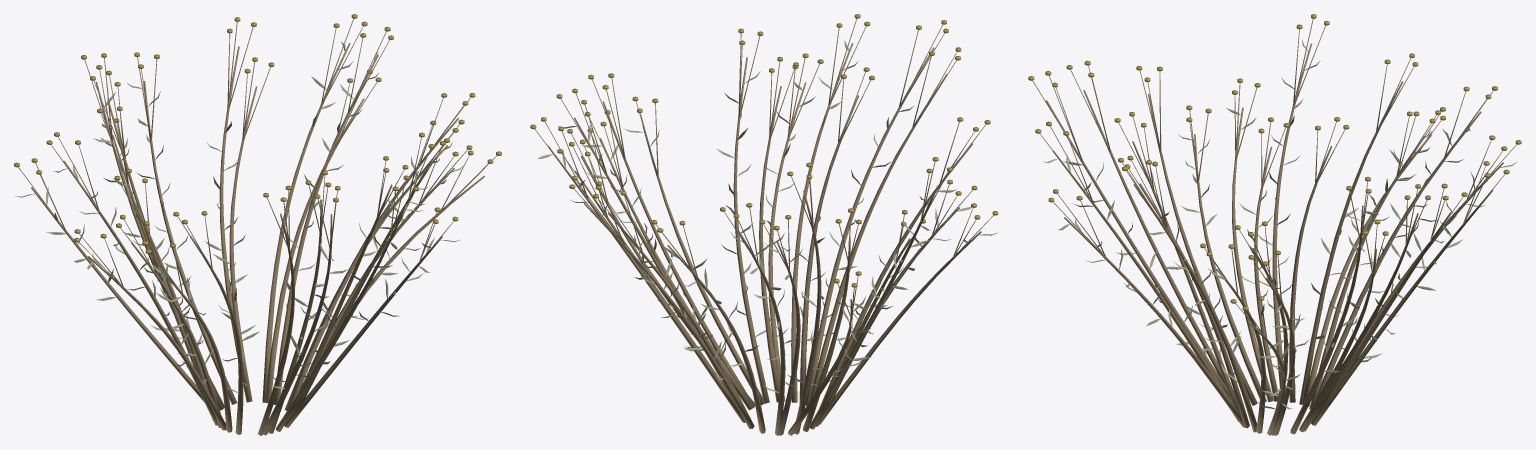
File: Immortelle_1_Niveau1.fbx
3 views of the same model, side by side, from view 1: azimuth 30°, elevation 25°; view 2: azimuth 150°, elevation 25°; view 3: azimuth 270°, elevation 25° (orthographic).
Parts seen in each view (by area): view 1: Immortelle_1_Niveau1_Jeu; view 2: Immortelle_1_Niveau1_Jeu; view 3: Immortelle_1_Niveau1_Jeu.
Part boxes in pixels (x1,y1,x2,y2): Immortelle_1_Niveau1_Jeu: (14, 14, 501, 435); Immortelle_1_Niveau1_Jeu: (530, 14, 998, 435); Immortelle_1_Niveau1_Jeu: (1028, 14, 1521, 435).
Bounding box in the file's own units: 58.9 × 41.97 × 58.08.
